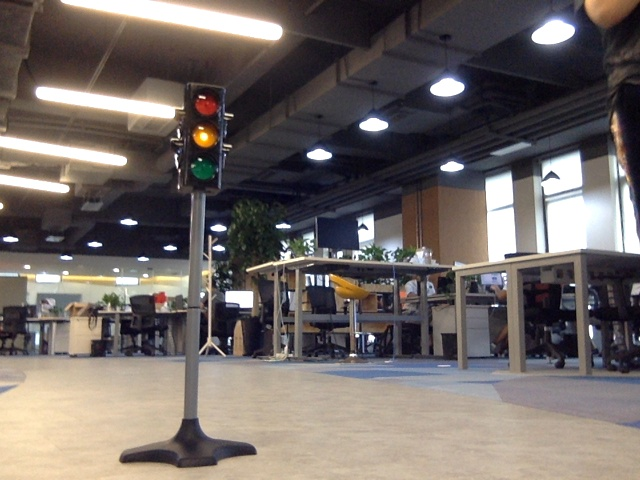yellow: (182, 90, 219, 180)
